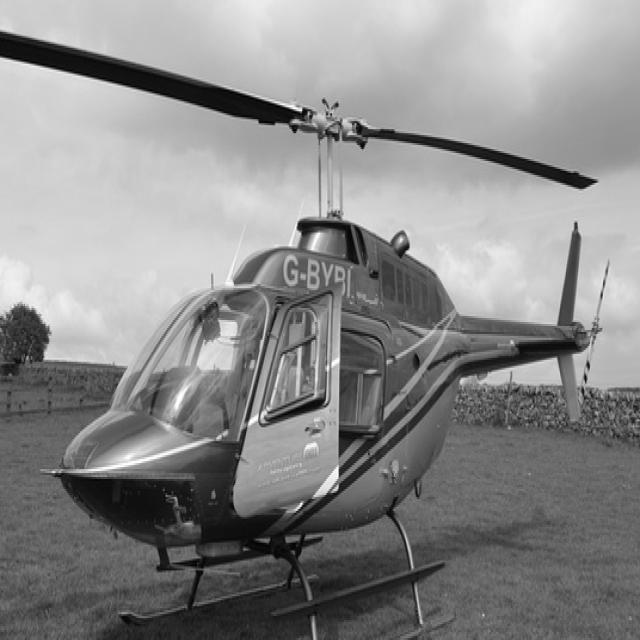helicopter: (1, 27, 612, 640)
